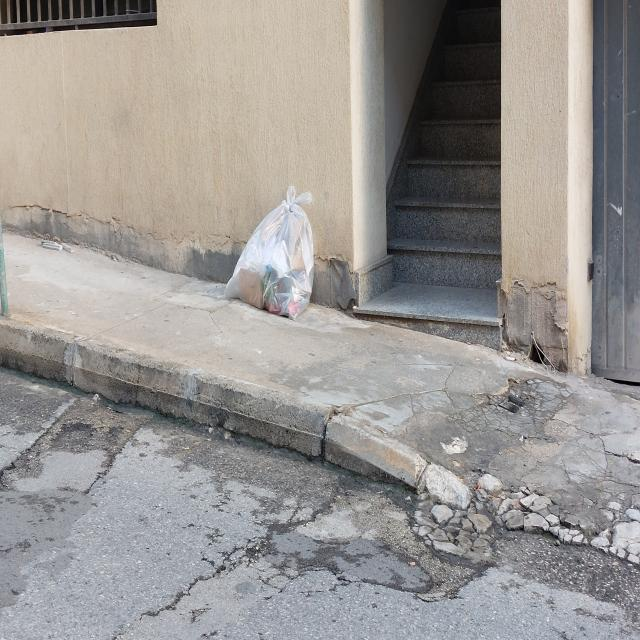Recycled Waste -Grey or Green Bag-: (225, 186, 315, 322)
